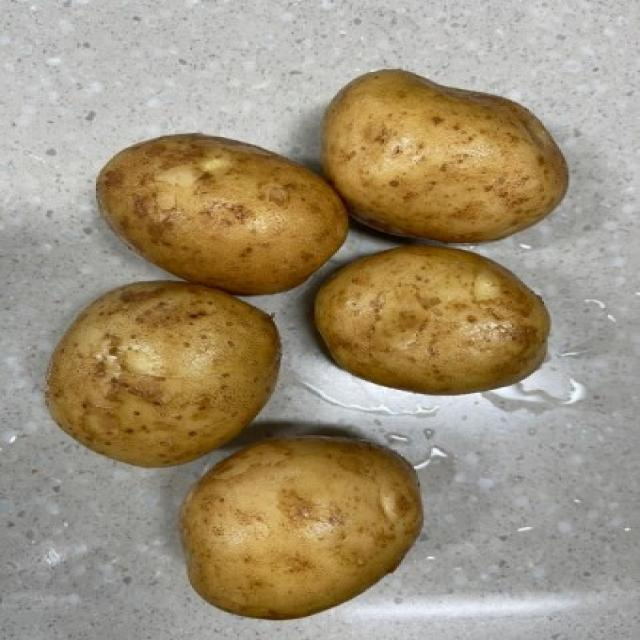potato: (180, 423, 426, 622), (317, 67, 572, 249), (43, 278, 289, 464), (90, 129, 350, 293), (310, 235, 552, 394)
